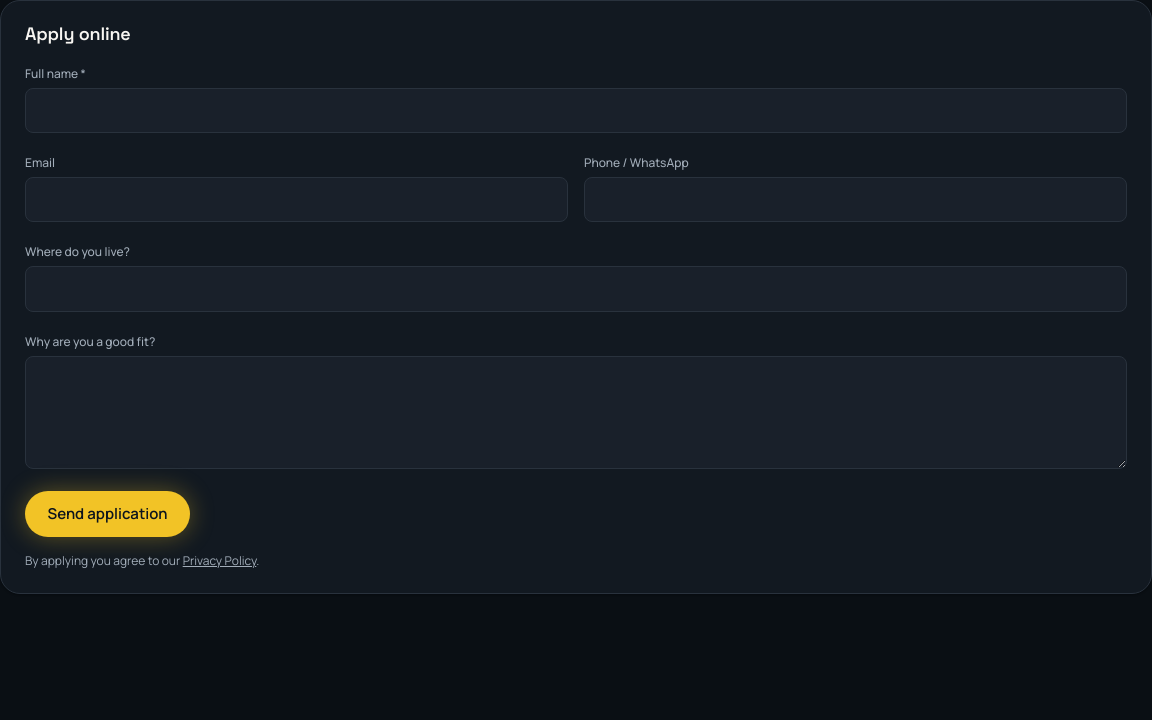
Test: ApplyForm › shows server errors and keeps what the person typed
This screenshot has width=1152, height=720.
Step 1. Type "Ama Mensah" into the field labelled "Full name *" → (576, 111), box [25, 88, 1127, 133]
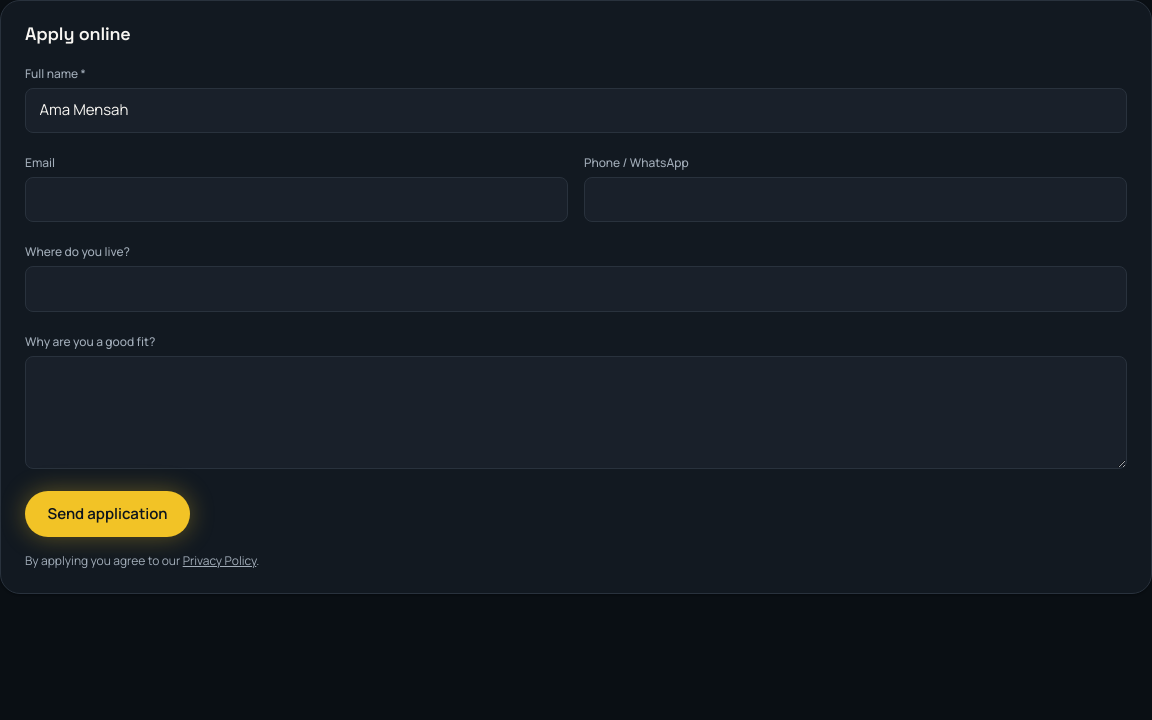
Step 2. Type "ama@example.com" into the field labelled "Email" → (296, 200), box [25, 177, 568, 222]
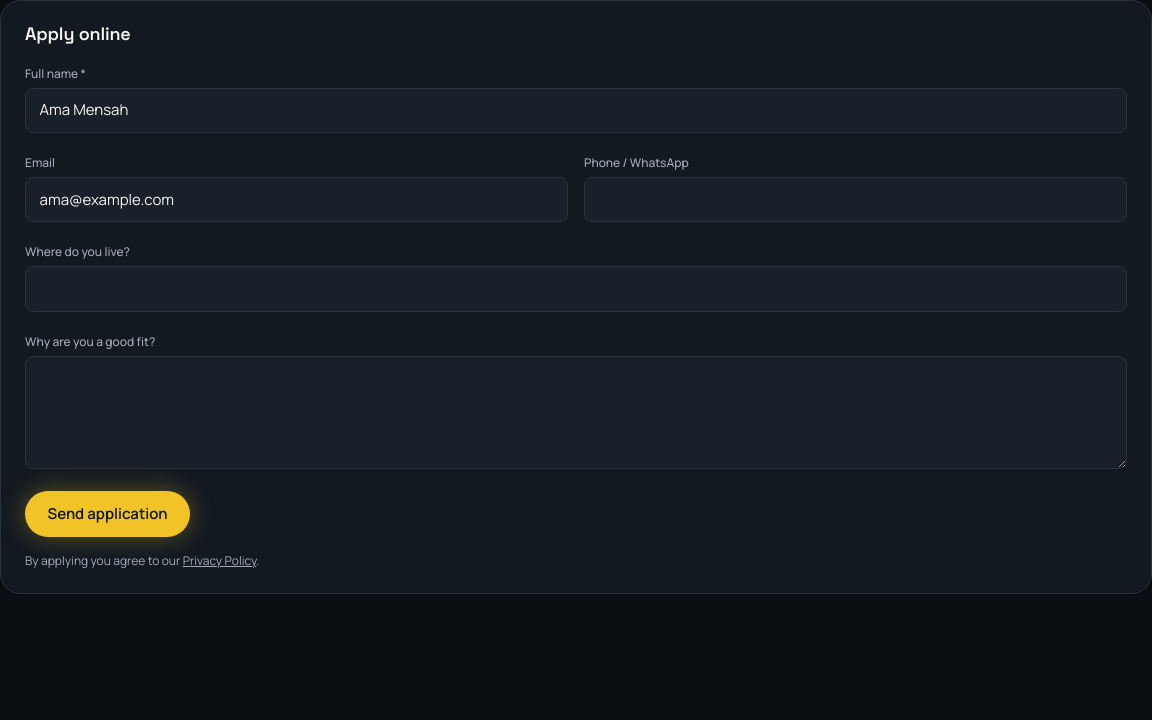
Step 3. Click the button "Send application" → (108, 514), box [25, 490, 190, 537]
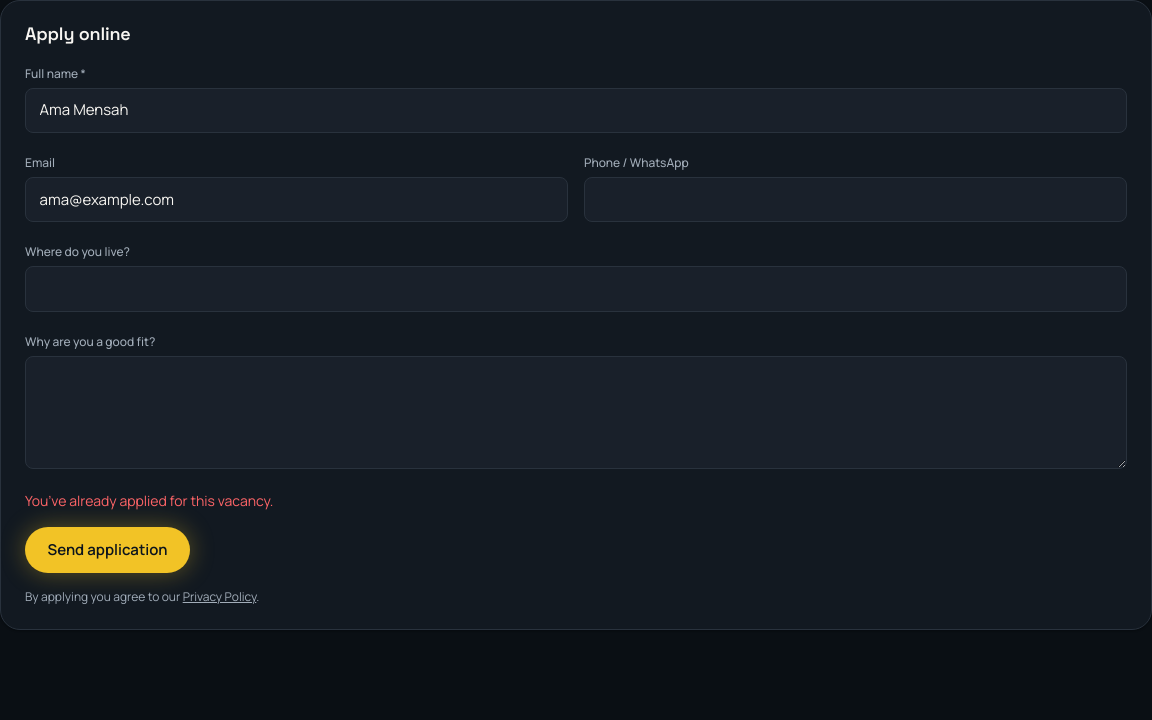
expect the button "Send application" is enabled: met, box [25, 526, 190, 573]
expect the text "You’ve already applied for this vacancy." is shown: met, box [25, 490, 273, 510]
